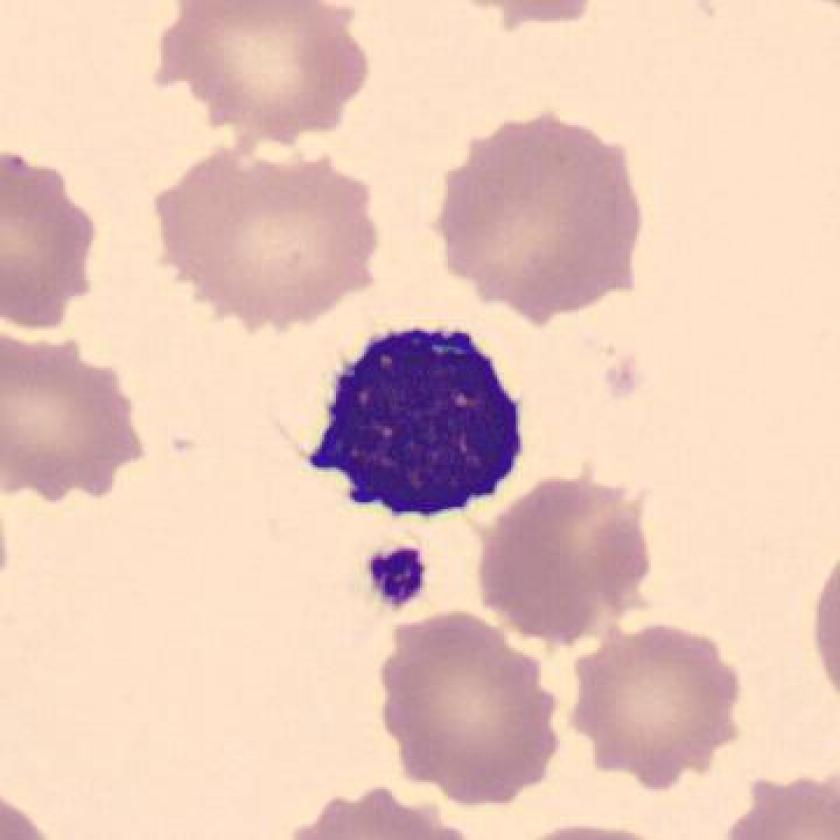lymphocyte: (298, 307, 543, 536)
